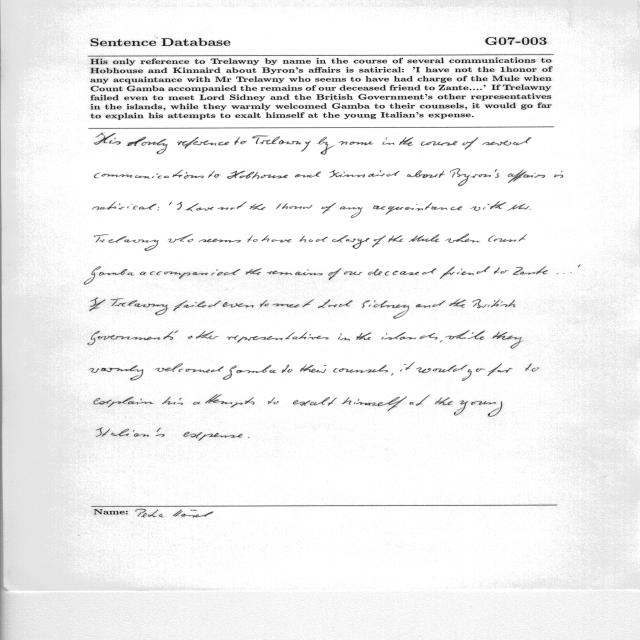word: (362, 300, 446, 319), (88, 331, 193, 345), (227, 332, 342, 343), (240, 135, 311, 152), (94, 234, 159, 251), (373, 203, 462, 215), (140, 269, 240, 279), (94, 170, 204, 179), (342, 397, 407, 411), (84, 267, 134, 285), (450, 169, 499, 186), (89, 366, 144, 381), (454, 400, 502, 417), (193, 395, 255, 408), (115, 300, 168, 315), (223, 365, 276, 380), (126, 137, 168, 154), (155, 363, 224, 373), (96, 427, 165, 437), (440, 266, 490, 279), (177, 137, 229, 149), (94, 397, 154, 407), (318, 137, 348, 155), (183, 432, 243, 441), (332, 235, 370, 249), (173, 300, 221, 311), (492, 332, 523, 349), (92, 202, 156, 210), (330, 171, 400, 178), (227, 171, 288, 179), (508, 170, 545, 183), (368, 269, 436, 276), (382, 332, 438, 340), (333, 365, 388, 373), (90, 298, 123, 311), (340, 332, 387, 341), (416, 365, 467, 373), (445, 330, 485, 340), (293, 397, 337, 406), (483, 137, 532, 145), (272, 299, 314, 308), (471, 201, 507, 211), (449, 299, 487, 308), (446, 233, 480, 243), (267, 270, 323, 276), (488, 363, 513, 376), (94, 133, 121, 145), (513, 266, 548, 275), (318, 299, 353, 308), (488, 234, 527, 242), (407, 170, 445, 178), (462, 368, 485, 381), (340, 206, 363, 218), (217, 201, 247, 210), (409, 234, 439, 242), (300, 364, 326, 373), (409, 395, 430, 406), (168, 234, 193, 243), (186, 204, 214, 212), (277, 204, 313, 210), (262, 235, 292, 242), (463, 137, 479, 150), (299, 236, 328, 243), (421, 141, 457, 146), (196, 331, 218, 339), (508, 204, 532, 211), (199, 239, 241, 243), (372, 236, 386, 248), (162, 397, 183, 405), (295, 172, 321, 178), (329, 268, 342, 280), (223, 302, 254, 307), (322, 203, 336, 214), (435, 398, 453, 406), (400, 362, 415, 371), (399, 137, 413, 146), (488, 300, 503, 308), (500, 300, 516, 307), (526, 364, 540, 372), (388, 235, 403, 242), (246, 269, 261, 276), (494, 267, 508, 274), (350, 142, 373, 146), (382, 138, 395, 145), (250, 204, 265, 210), (282, 365, 293, 373), (208, 171, 220, 178), (247, 236, 258, 243), (268, 398, 279, 405), (344, 272, 362, 276), (554, 171, 563, 178), (260, 300, 269, 307), (235, 137, 240, 145), (177, 202, 182, 210), (157, 207, 160, 210), (169, 202, 172, 205), (557, 273, 564, 274), (338, 337, 340, 340), (440, 340, 443, 342), (578, 265, 580, 267), (391, 373, 393, 375), (570, 272, 572, 273), (248, 437, 249, 438)
